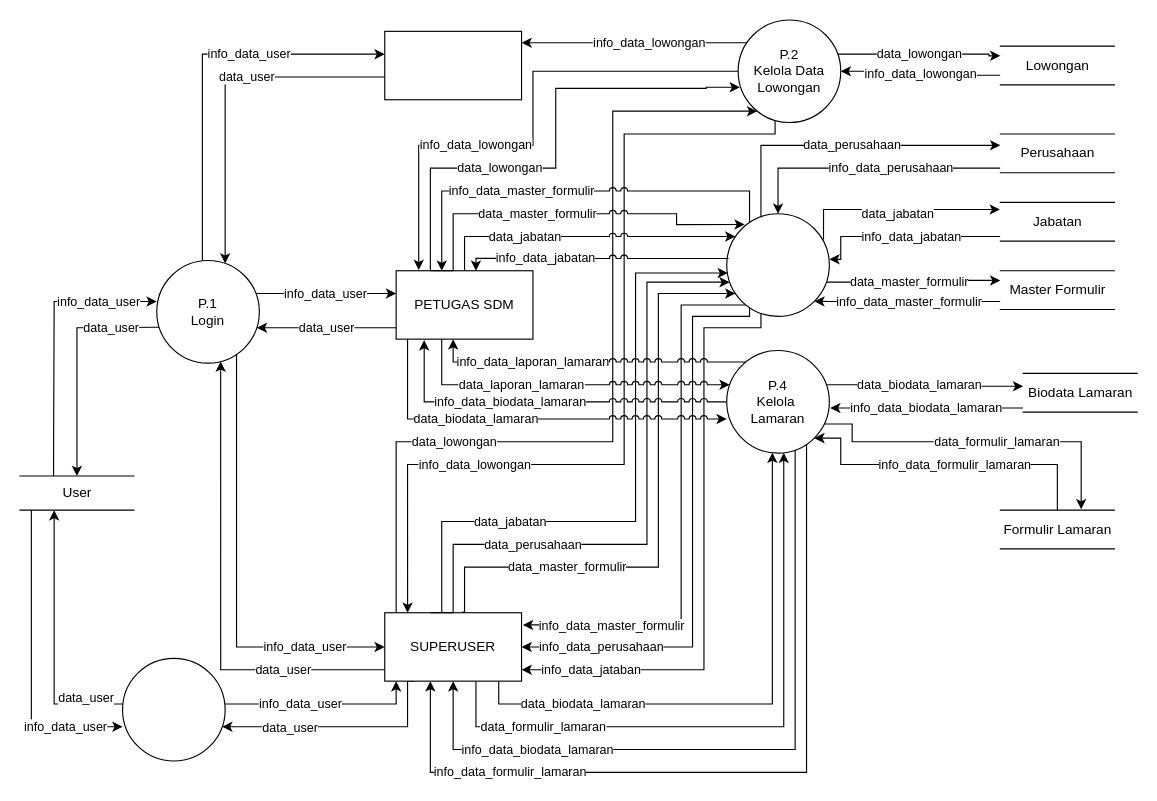
Some shapes in this 1157 by 801 pixel diagram are drawn without their labels. The shapes that lost their labels are listed below. From the top down, each one's centre as x and y in pixels, then its label:
[453,65]: PELAMAR
[777,264]: P.3 Kelola Master Data
[173,709]: P.5 Kelola User
